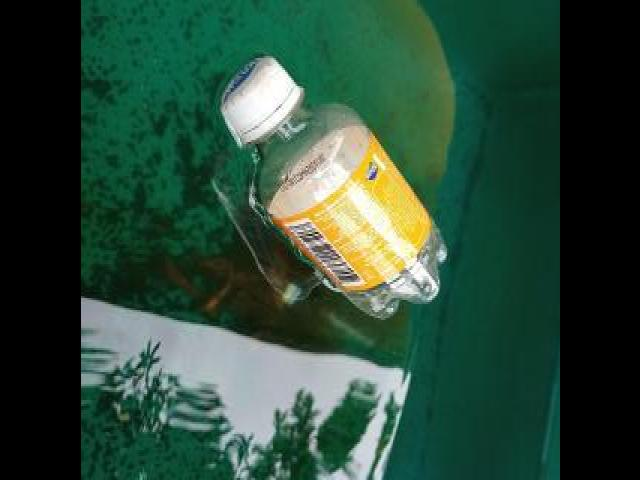Bottle: (214, 46, 452, 328)
